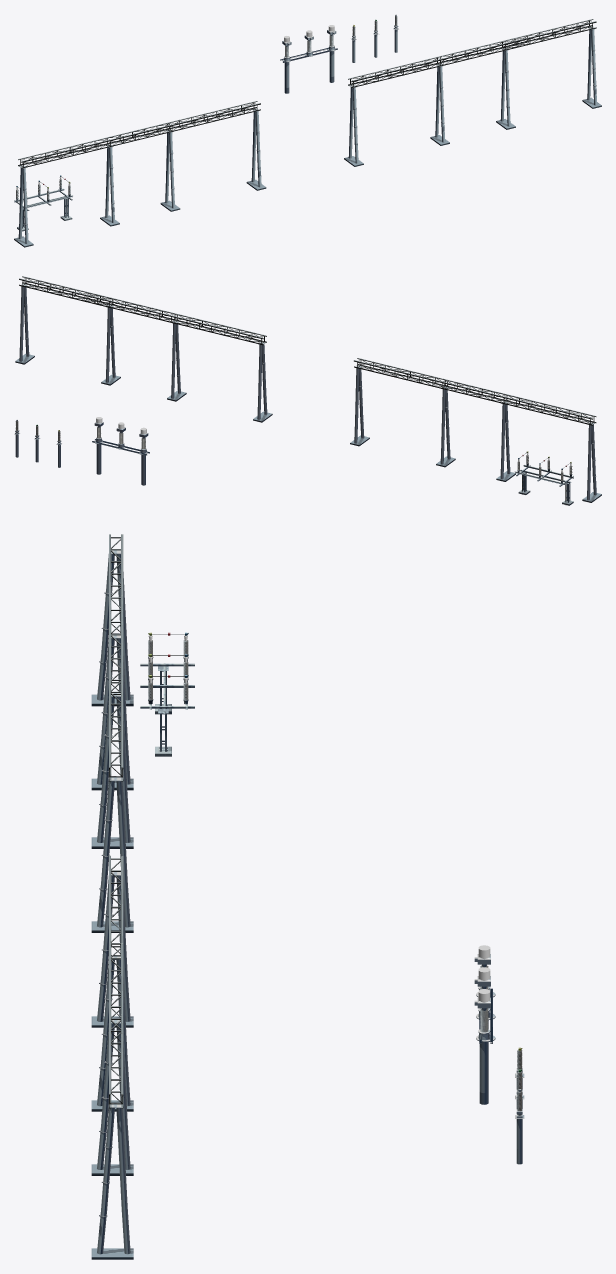
3 views of the same model, one above another, from view 1: azimuth 30°, elevation 25°; view 2: azimuth 150°, elevation 25°; view 3: azimuth 270°, elevation 25° (orthographic). The views are drawn at different scales.
Parts seen in each view (by area): view 1: 17-#.9, 17-#.8, 17-#.6, 17-#.7, 17-#.5; view 2: 17-#.9, 17-#.8, 17-#.7, 17-#.6, 17-#.5; view 3: 17-#.9, 17-#.8, 17-#.7, 17-#.6.
Part boxes in pixels (x1,y1,x2,y2): 17-#.9: [344, 19, 601, 166]; 17-#.8: [14, 101, 266, 247]; 17-#.6: [280, 30, 337, 93]; 17-#.7: [14, 175, 72, 231]; 17-#.5: [351, 14, 398, 62]; 17-#.9: [15, 276, 272, 422]; 17-#.8: [350, 358, 601, 502]; 17-#.7: [515, 451, 573, 505]; 17-#.6: [92, 422, 149, 485]; 17-#.5: [14, 419, 61, 467]; 17-#.9: [91, 855, 133, 1259]; 17-#.8: [91, 534, 133, 932]; 17-#.7: [140, 632, 194, 756]; 17-#.6: [474, 954, 495, 1104].
Size of the model in its own units: 48.52 by 7.03 by 15.77.
Materials: 6 (5 with a texture image).
